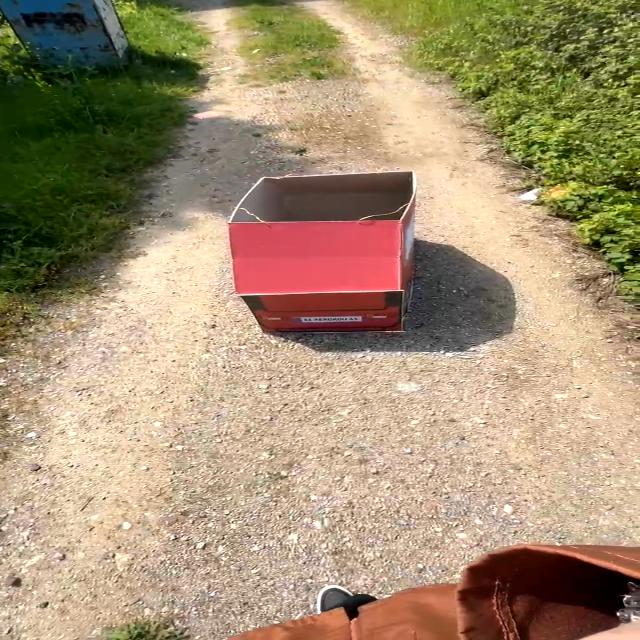red_car: (140, 146, 489, 356)
